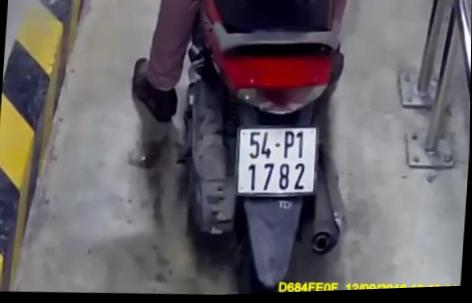LP: (233, 124, 322, 205)
